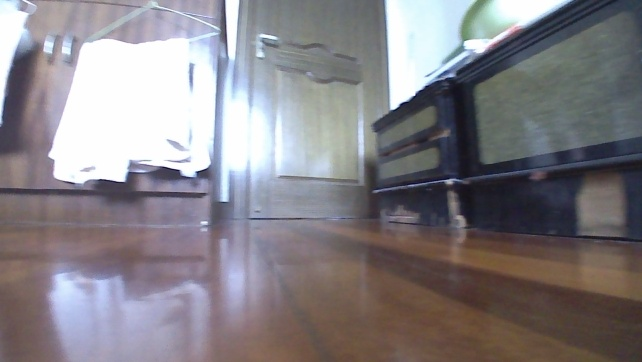cabinet: (367, 0, 641, 244)
door_anno: (226, 0, 390, 222)
